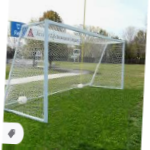goals: (6, 19, 126, 120)
